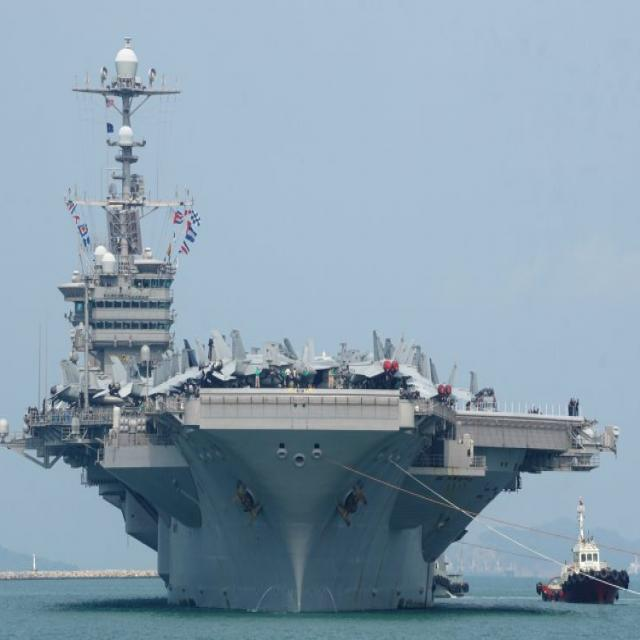Portanaves: (1, 33, 618, 622)
